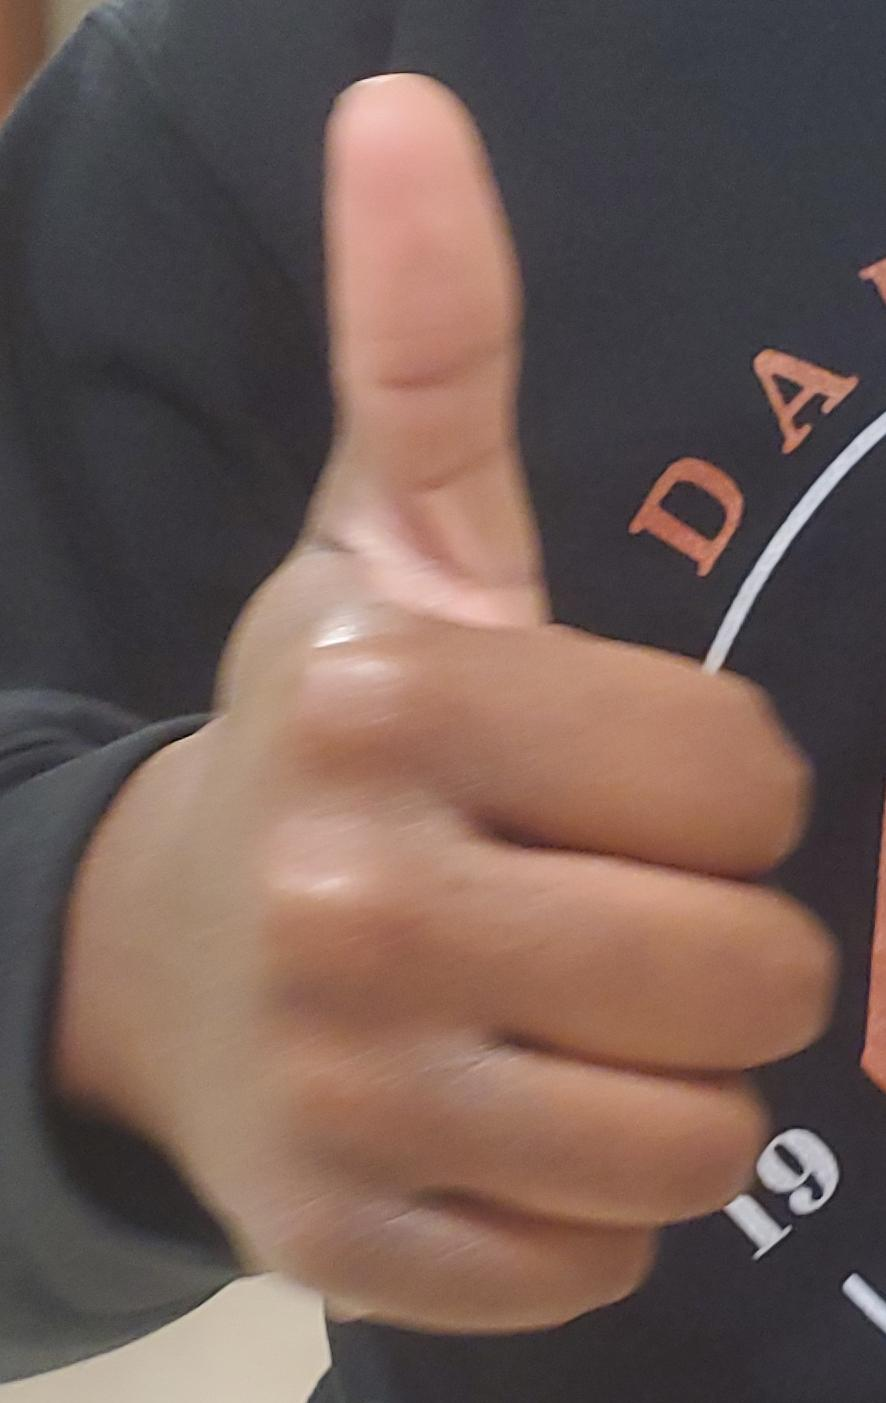up: (0, 1, 886, 1403)
